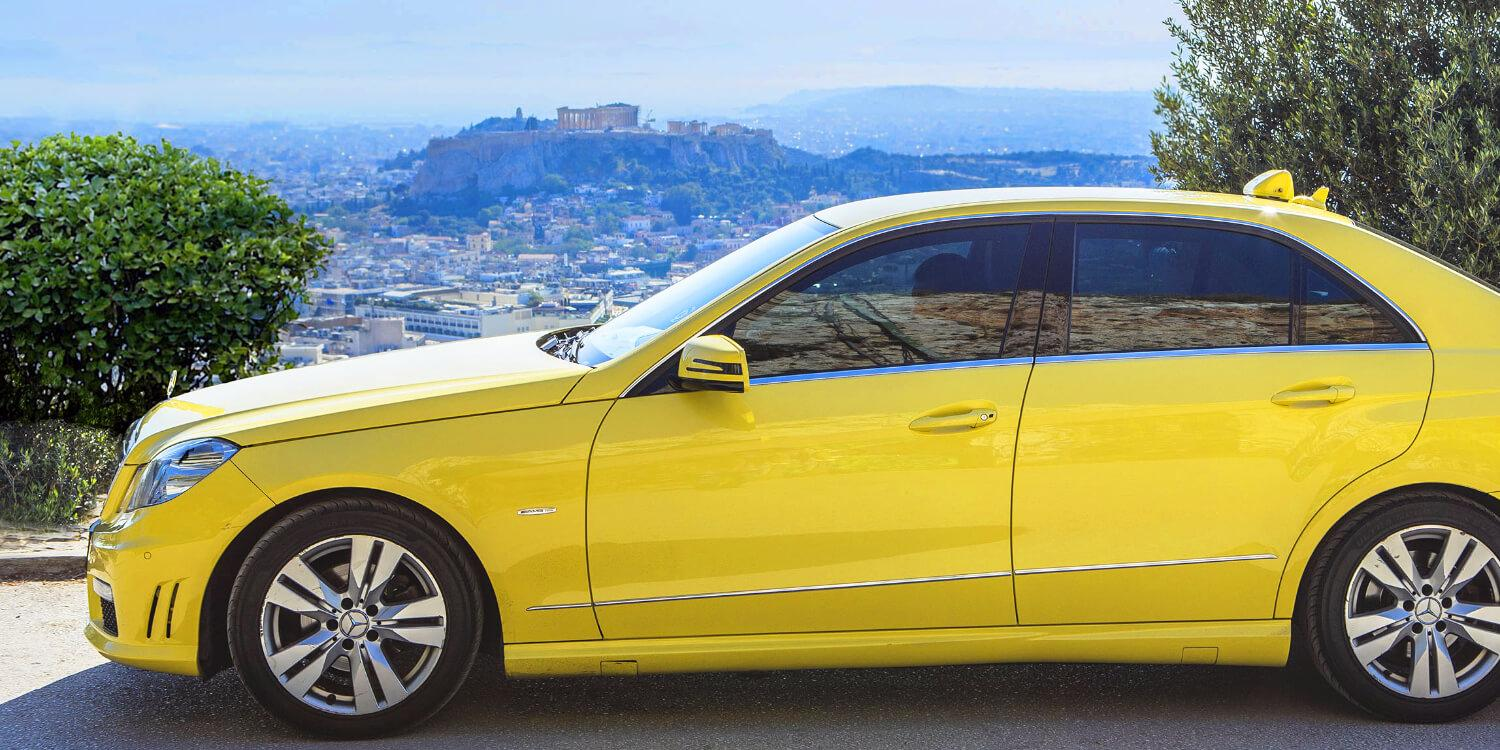taxi: (134, 198, 1500, 750)
